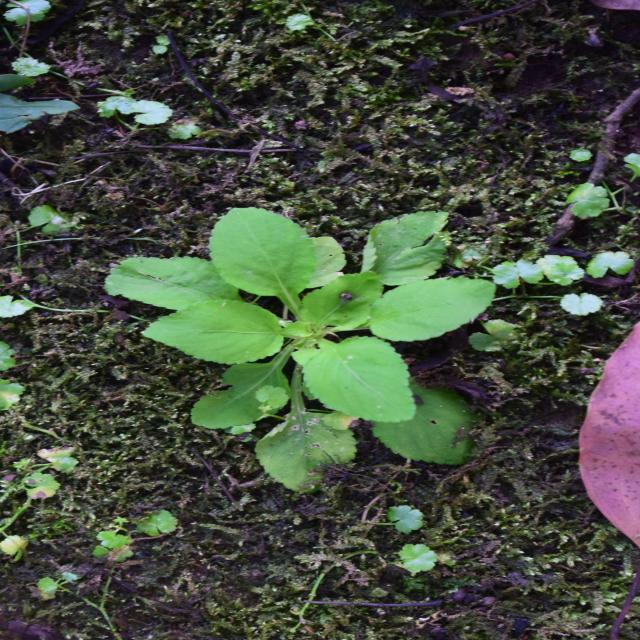Viola: (174, 113, 448, 497)
